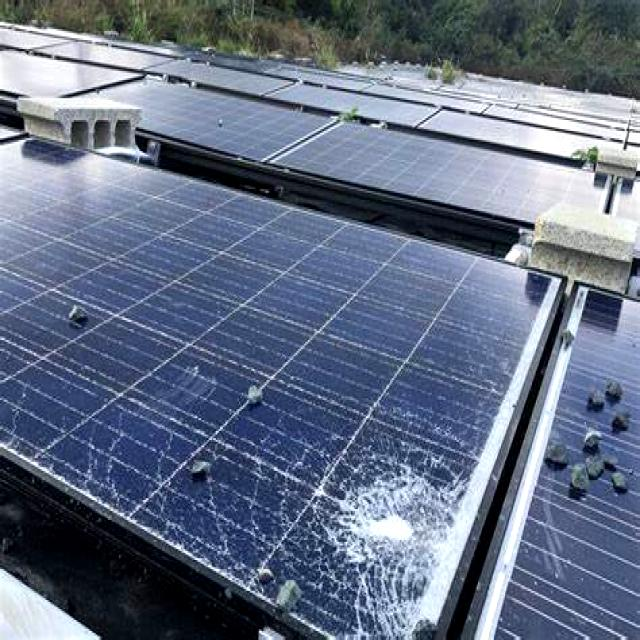hotspot: (311, 416, 474, 614)
